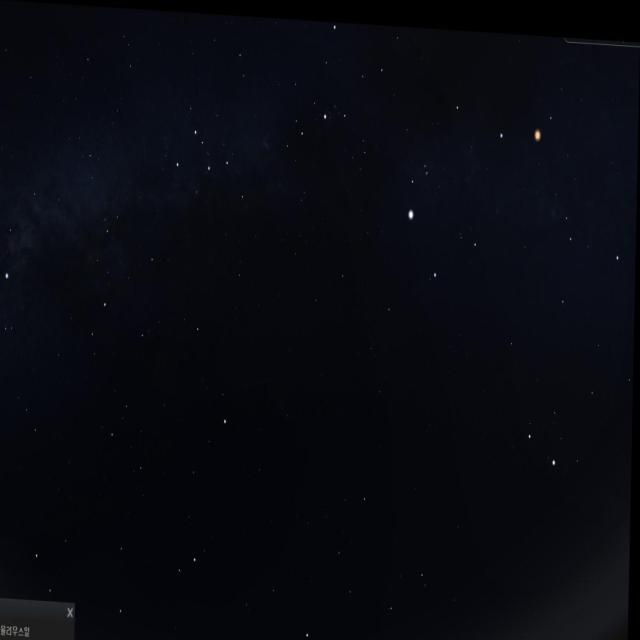cassiopeia: (171, 108, 266, 193)
